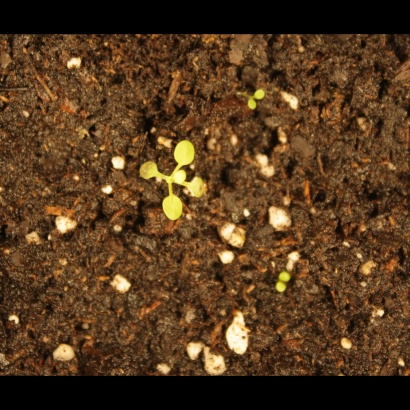leaf: (132, 154, 162, 188), (155, 194, 186, 226), (171, 139, 199, 167), (187, 175, 214, 201), (167, 168, 190, 191), (236, 98, 259, 121), (253, 77, 276, 100), (273, 260, 296, 283), (270, 283, 293, 306)
